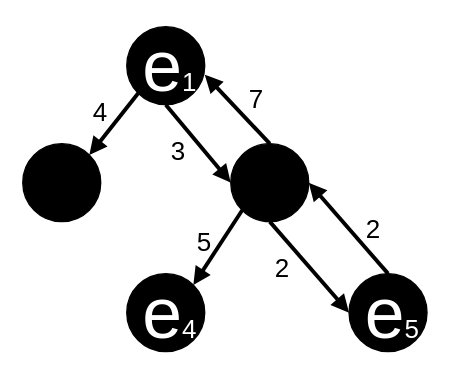
Some shapes in this 450 by 377 pixel diagram are drawn without their labels. The centre of each missing label's shape, as x and y in pixels:
"e e 2" belongs at pixel 61 182.
"e e 3" belongs at pixel 269 182.
